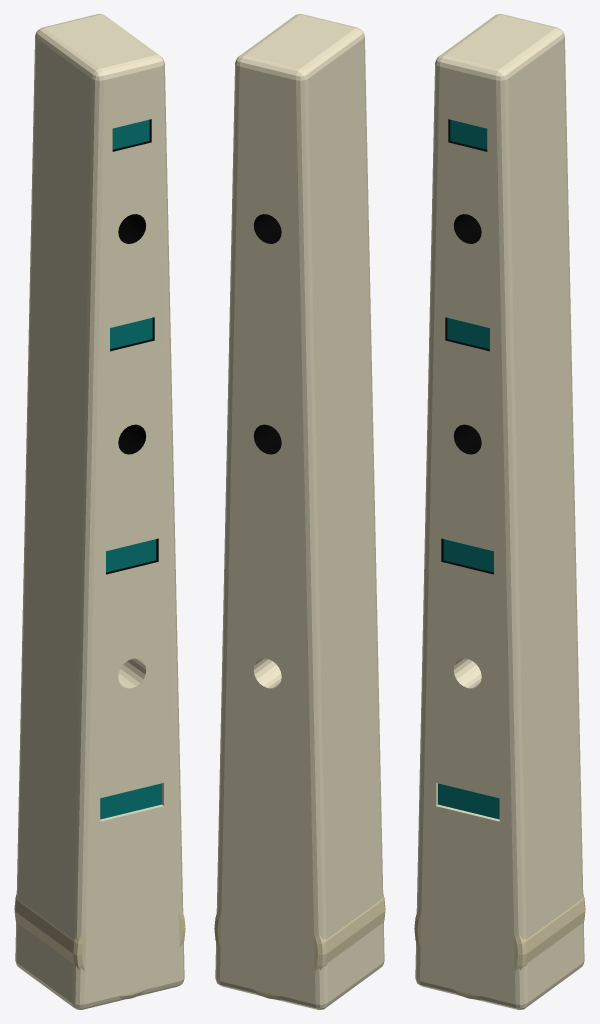
Rendered from arm_link.obj.
3 renders of one model, left to right at view 1: azimuth 30°, elevation 25°; view 2: azimuth 150°, elevation 25°; view 3: azimuth 330°, elevation 25°, orthographic.
Visible parts, largest first — view 1: arm_link; view 2: arm_link; view 3: arm_link.
Part boxes in pixels (bbox=[...]): arm_link: bbox=[14, 14, 185, 1009]; arm_link: bbox=[214, 14, 385, 1009]; arm_link: bbox=[414, 14, 585, 1009].
Bounding box in the file's own units: 0.01 × 0.08 × 0.01.
